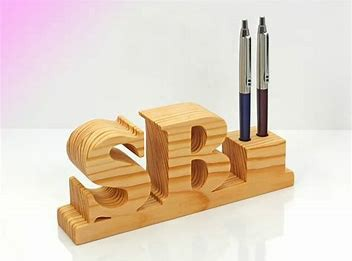pen: (226, 17, 254, 138), (256, 14, 271, 138)
